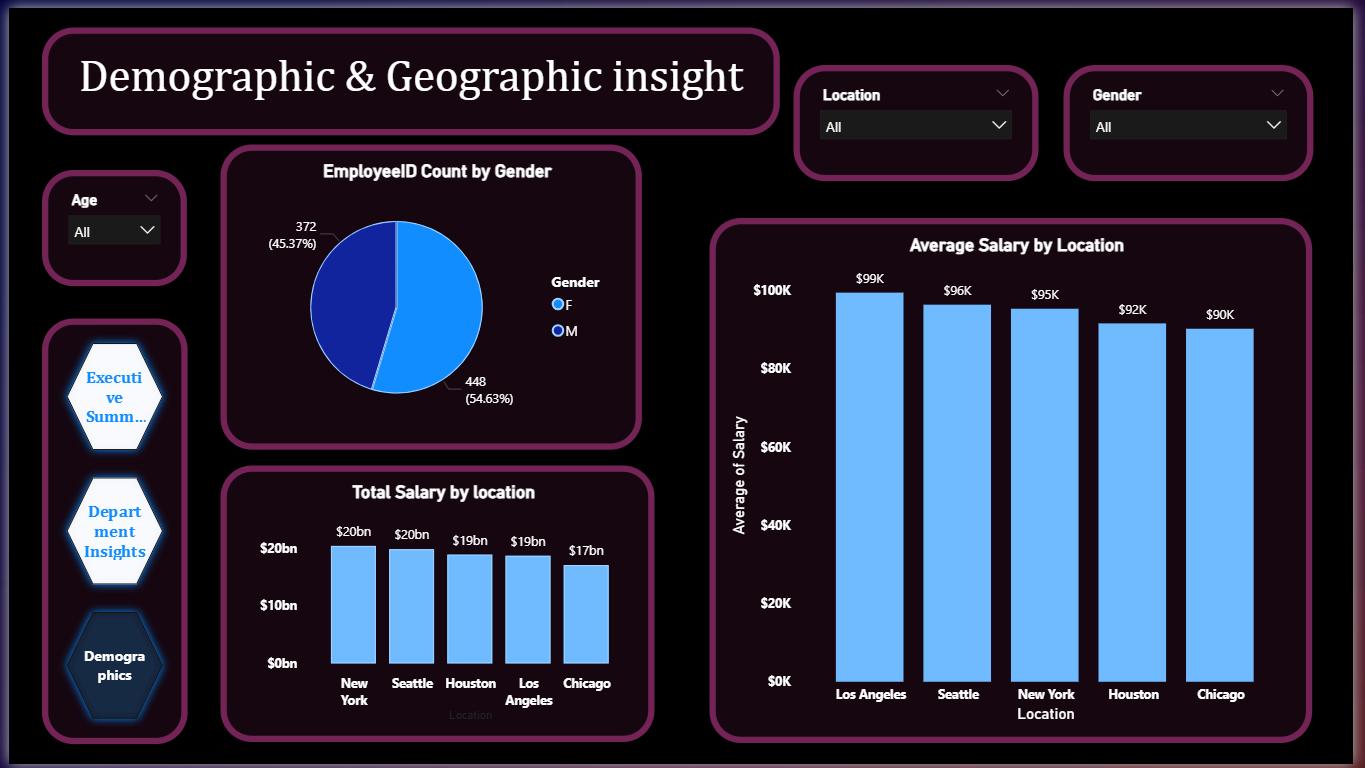

The page's visual inventory and layout, read from the dashboard file:
{"tool":"powerbi","page":{"name":"Demographics","canvas":[1280,720],"ordinal":2},"visuals":[{"type":"textbox","box":[31.8,18.2,702.6,103],"z":1000},{"type":"clusteredColumnChart","title":"Total Salary by location","fields":{"Category":["Employee_Salary_Dataset.Location"],"Y":["Sum(Employee_Salary_Dataset.Total_Salary)"]},"box":[201.4,436.1,413.4,263.5],"z":4000},{"type":"columnChart","title":"Average Salary by Location","fields":{"Y":["Avg(Employee_Salary_Dataset.Salary)"],"Category":["Employee_Salary_Dataset.Location"]},"box":[667.8,199.9,573.9,499.7],"z":6000},{"type":"pieChart","title":"EmployeeID Count by Gender","fields":{"Y":["CountNonNull(Employee_Salary_Dataset.EmployeeID)"],"Category":["Employee_Salary_Dataset.Gender"]},"box":[201.4,130.2,401.3,290.7],"z":7000},{"type":"pageNavigator","box":[31.7,295,138.3,405],"z":8000},{"type":"slicer","fields":{"Values":["Employee_Salary_Dataset.Age"]},"box":[31.8,154.4,137.8,110.5],"z":9000},{"type":"slicer","fields":{"Values":["Employee_Salary_Dataset.Gender"]},"box":[1003.9,54.5,237.7,110.5],"z":10000},{"type":"slicer","fields":{"Values":["Employee_Salary_Dataset.Location"]},"box":[746.5,54.5,233.2,110.5],"z":11000}]}

Visuals, with their boxes in screenshot pixels (x1, y1, x2, y2), scaled from the page's 1280x720 canvas onto the 1365x768 screenshot:
textbox: BBox(34, 19, 783, 129)
"Total Salary by location" clusteredColumnChart: BBox(215, 465, 656, 746)
"Average Salary by Location" columnChart: BBox(712, 213, 1324, 746)
"EmployeeID Count by Gender" pieChart: BBox(215, 139, 643, 449)
pageNavigator: BBox(34, 315, 181, 747)
slicer - Employee_Salary_Dataset.Age: BBox(34, 165, 181, 283)
slicer - Employee_Salary_Dataset.Gender: BBox(1071, 58, 1324, 176)
slicer - Employee_Salary_Dataset.Location: BBox(796, 58, 1045, 176)
